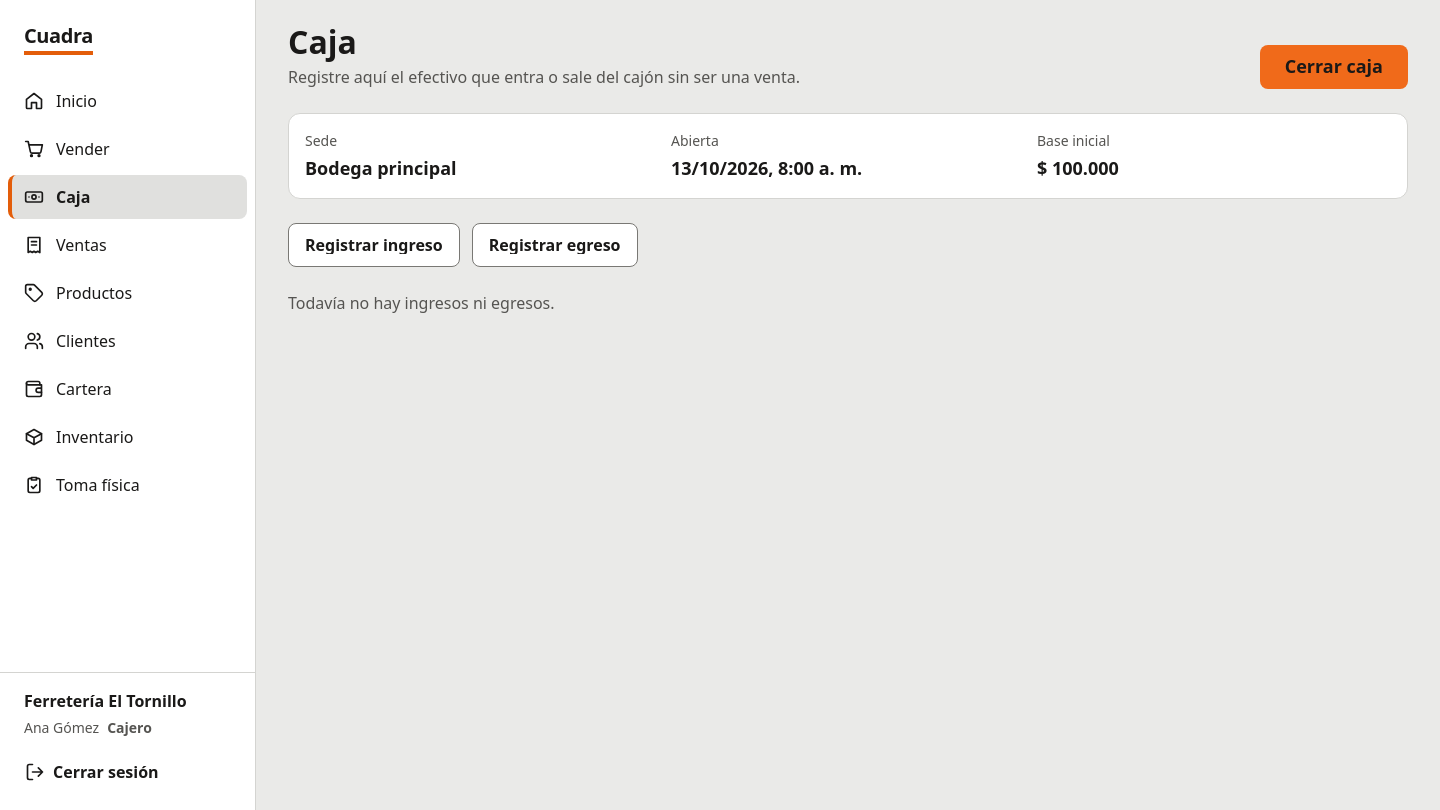
Test case: CashPage › registra un egreso con su motivo
Step 1. Click the button "Registrar egreso" → (555, 245), box [472,223,638,267]
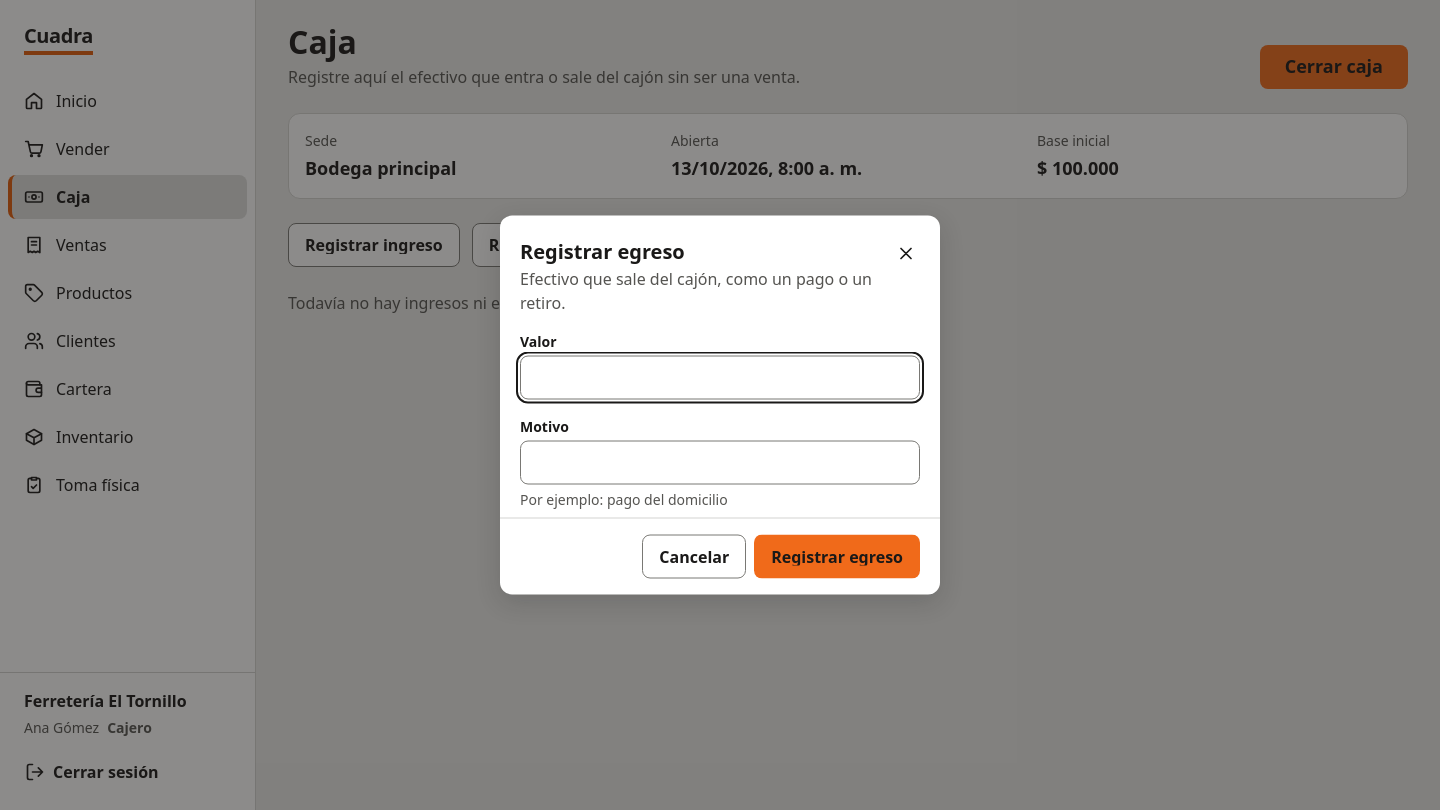
Step 2. Type "12.000" into the field labelled "Valor" → (720, 378), box [520,356,920,400]
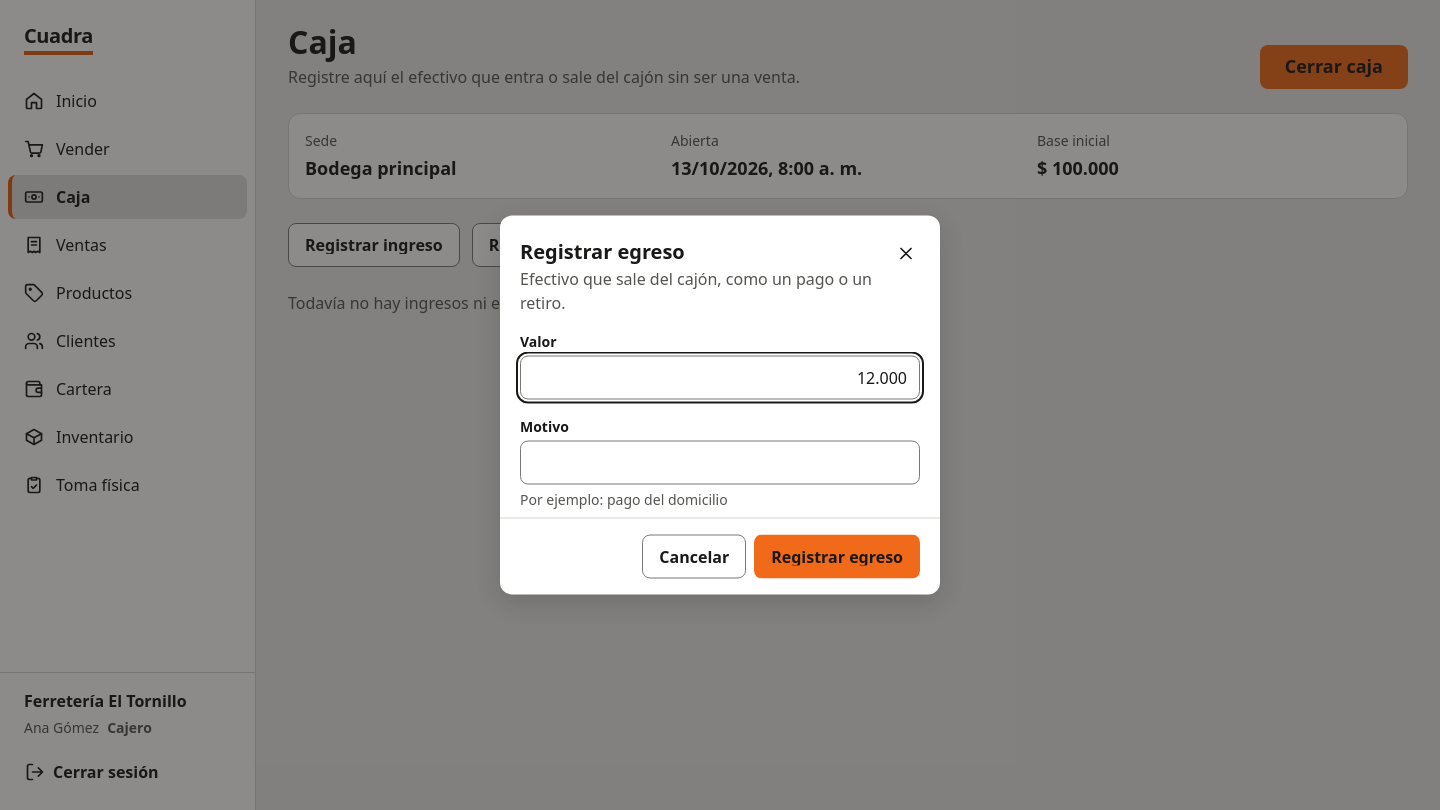
Step 3. Type "Pago del domicilio" into the field labelled "Motivo" → (720, 462), box [520,440,920,484]
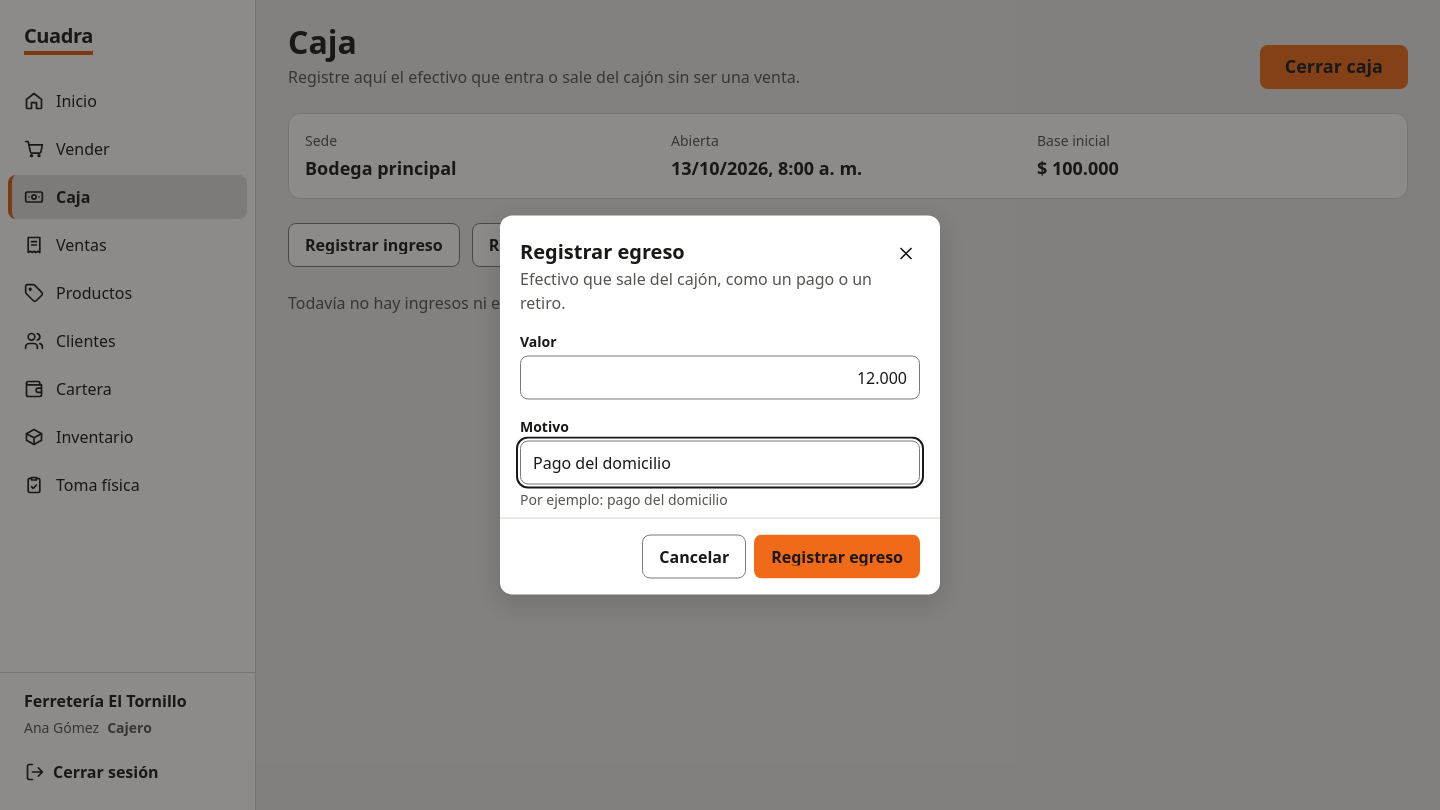
Step 4. Click the button "Registrar egreso" → (837, 556), box [754,534,920,578]
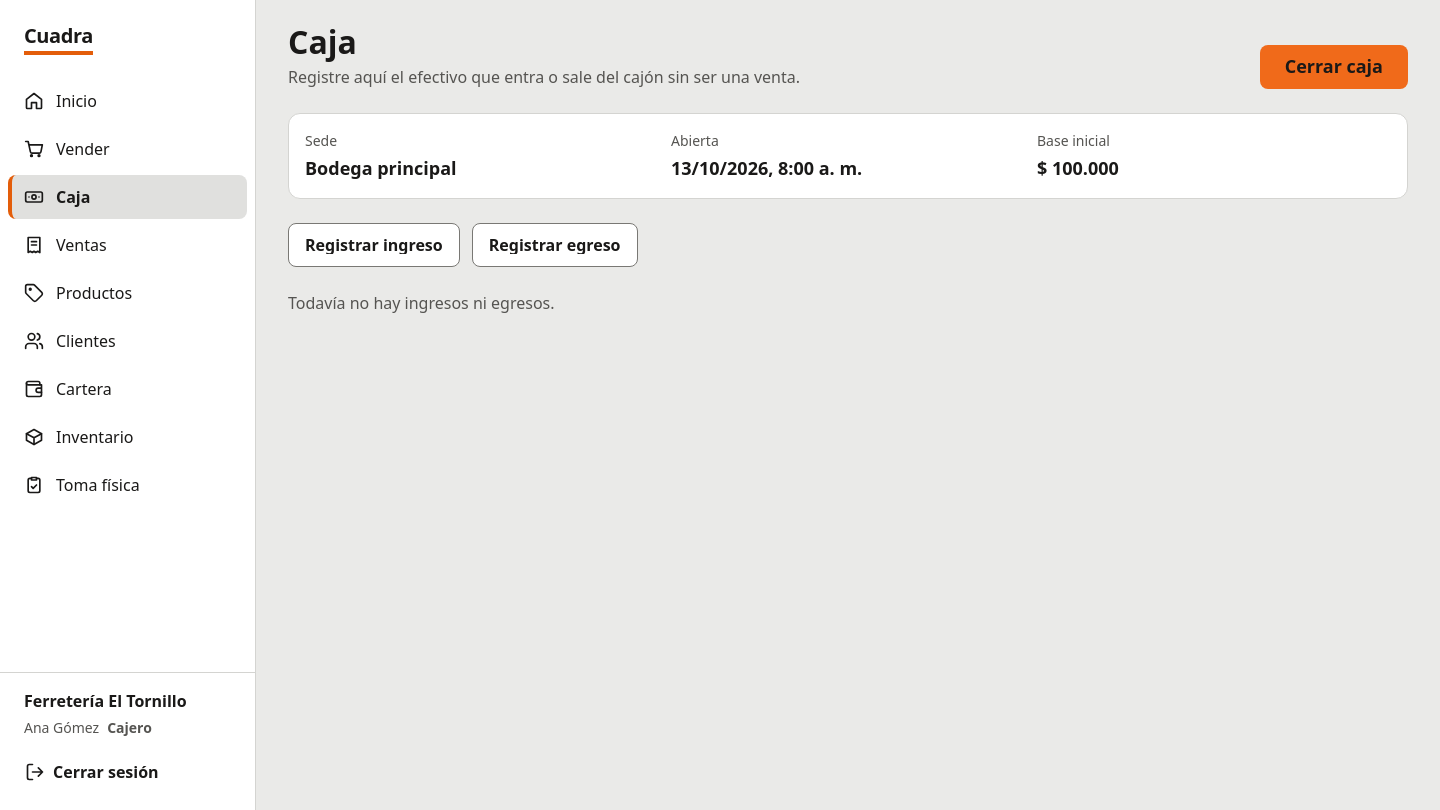
Check: the dialog is gone
